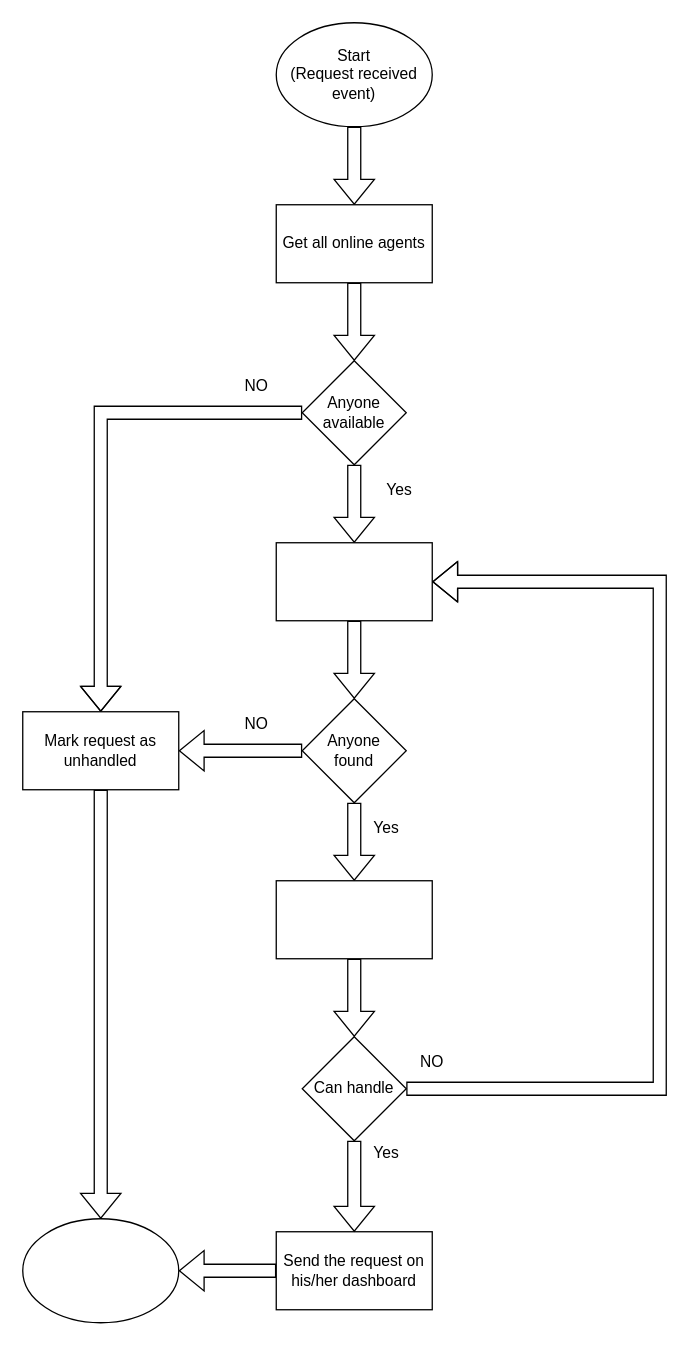
Some shapes in this 689 by 1346 pixel diagram are drawn without their labels. The shapes that lost their labels are listed below. From the top down, each one's centre as x and y in pixels, then its label:
point (353, 581): Find someone who is responsible for this kind of request
point (353, 919): Check his/her capacity (How many users are waiting for him/her)
point (100, 1270): Finish
